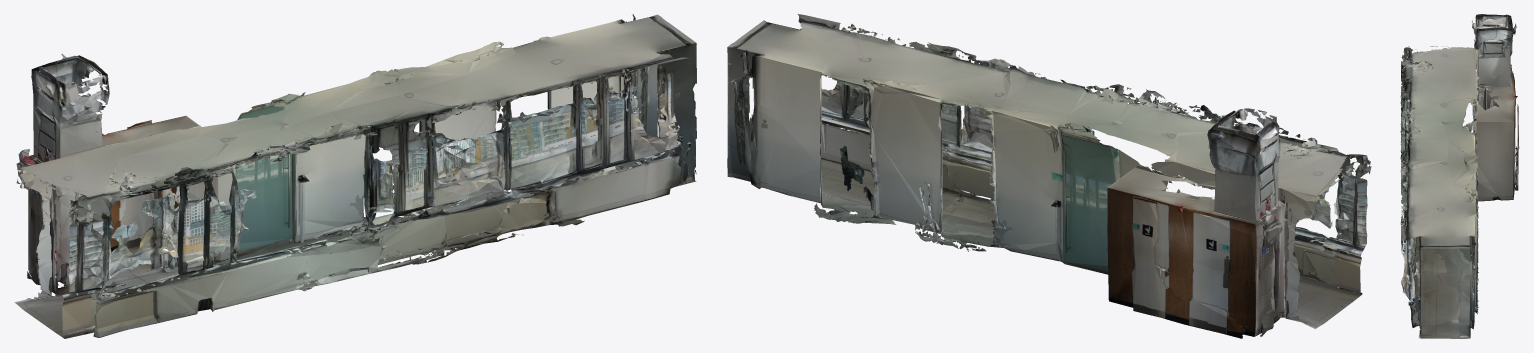
Rendered from 4th_right_side_LOW_POLY.fbx.
The picture shows the model from 3 angles, left to right: view 1: azimuth 30°, elevation 25°; view 2: azimuth 150°, elevation 25°; view 3: azimuth 270°, elevation 25°; orthographic projection. The views are drawn at different scales.
Visible parts, largest first — view 1: 4th_right_side_LOW_POLY; view 2: 4th_right_side_LOW_POLY; view 3: 4th_right_side_LOW_POLY.
Part boxes in pixels (box(x1,y1,x2,y2)): 4th_right_side_LOW_POLY: box(14, 14, 696, 338); 4th_right_side_LOW_POLY: box(727, 14, 1371, 338); 4th_right_side_LOW_POLY: box(1400, 14, 1519, 338).
Bounding box in the file's own units: 1198 × 406 × 300.
1 material, 1 textured.
